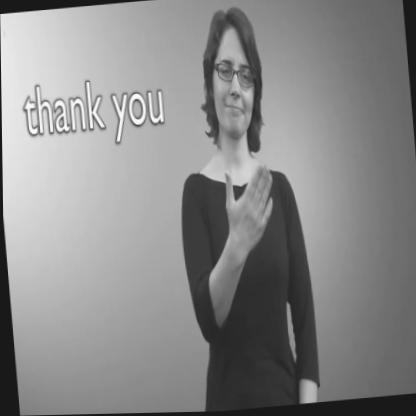ThankYou: (158, 0, 301, 330)
